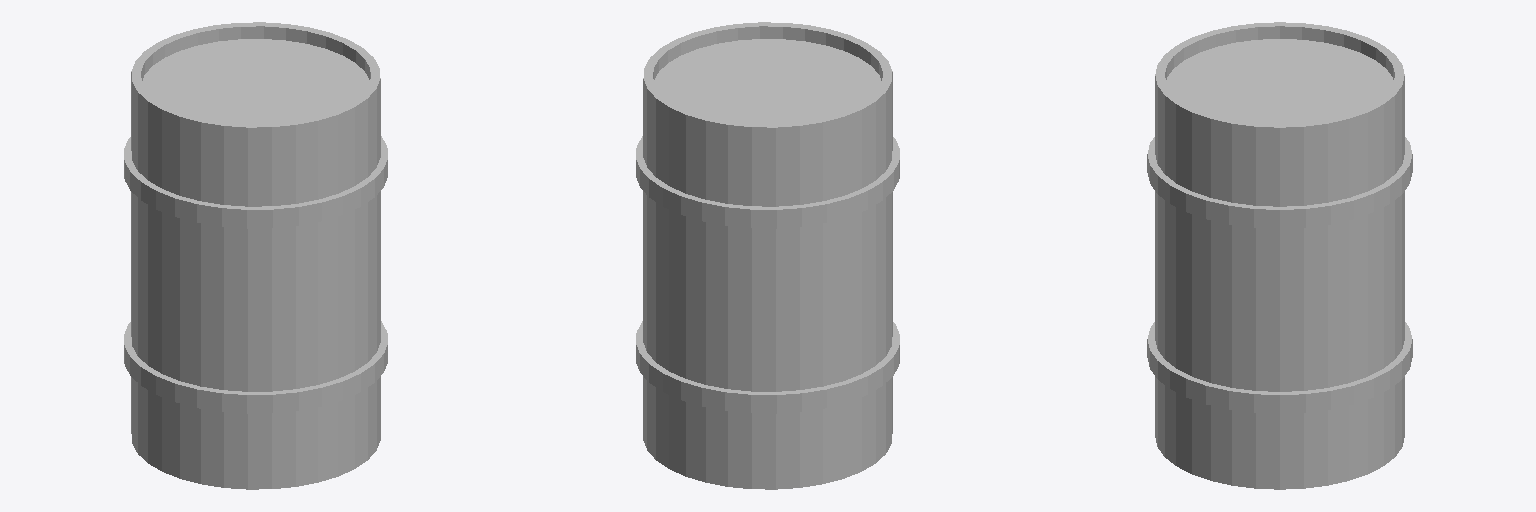
Rendered from barrel.obj.
The picture shows the model from 3 angles: view 1: azimuth 30°, elevation 25°; view 2: azimuth 150°, elevation 25°; view 3: azimuth 270°, elevation 25°; orthographic projection.
Parts seen in each view (by area): view 1: Cylinder; view 2: Cylinder; view 3: Cylinder.
Boxes of the visible parts, box(x1,y1,x2,y2) form: Cylinder: box(124, 22, 387, 489); Cylinder: box(636, 22, 899, 489); Cylinder: box(1147, 22, 1412, 489).
Bounding box in the file's own units: 2.12 × 3.2 × 2.12.